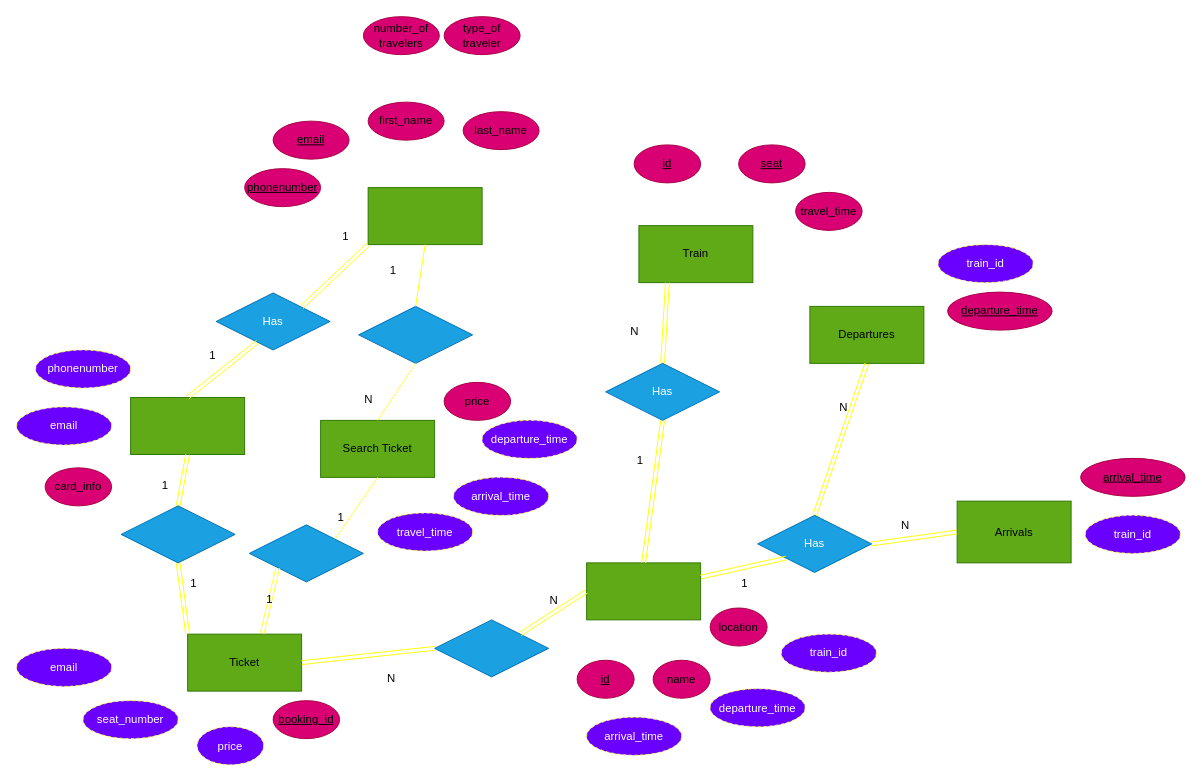
The diagram is 1202 pixels wide and 782 high, and some of its shapes have lost their labels. Here are the shapes that lost their labels. From the top down, the centre of each, then its label:
At [424,216]: "Traveler".
At [415,334]: "Can".
At [187,425]: "Payment Information".
At [177,534]: "Includes".
At [305,553]: "Creates".
At [643,591]: "Train Station".
At [491,648]: "Gets information".
